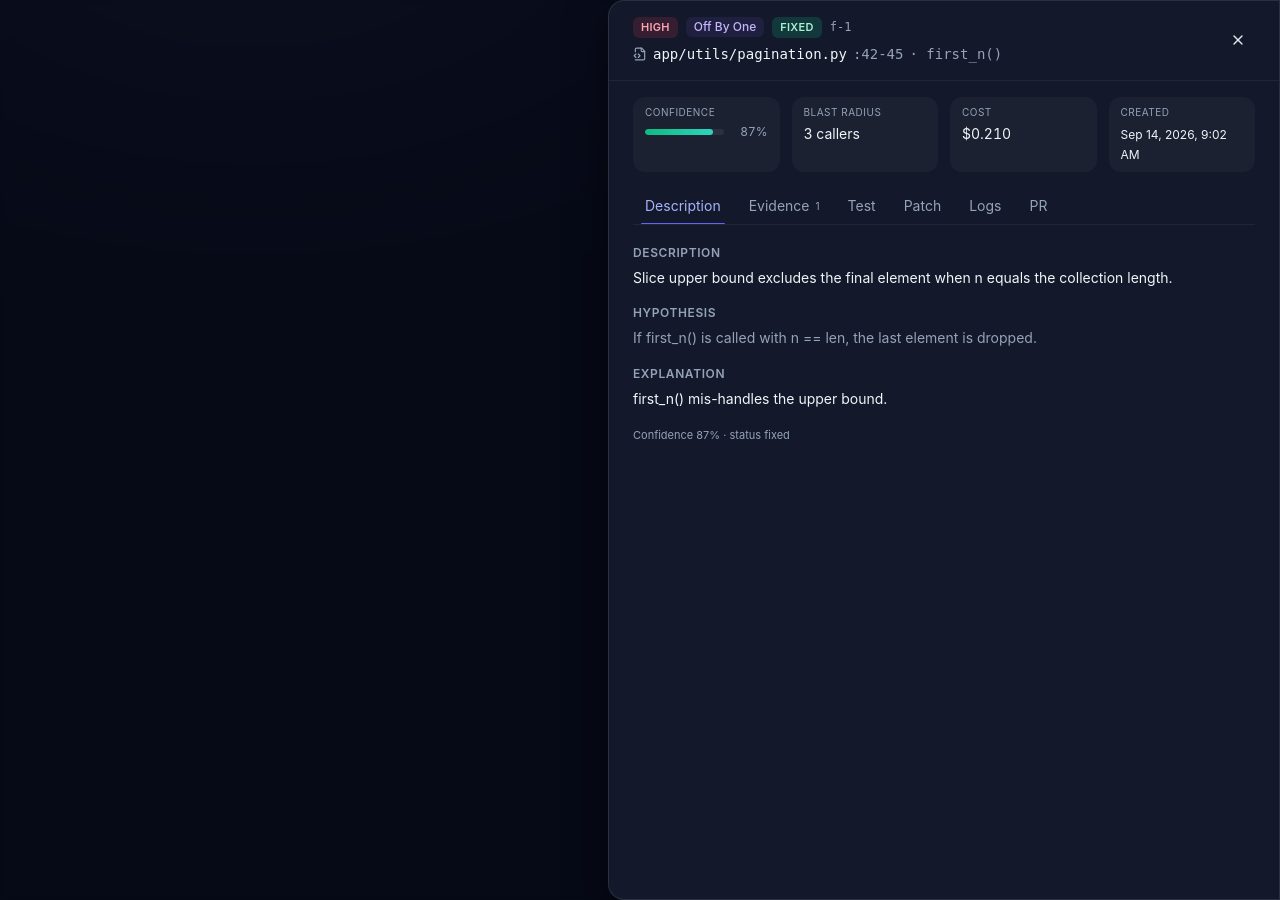
Test: FindingDrawer › switches to the Test tab and renders the generated test
The image size is (1280, 900).
Click the tab "Test".
click(862, 206)  # box [836, 188, 888, 224]
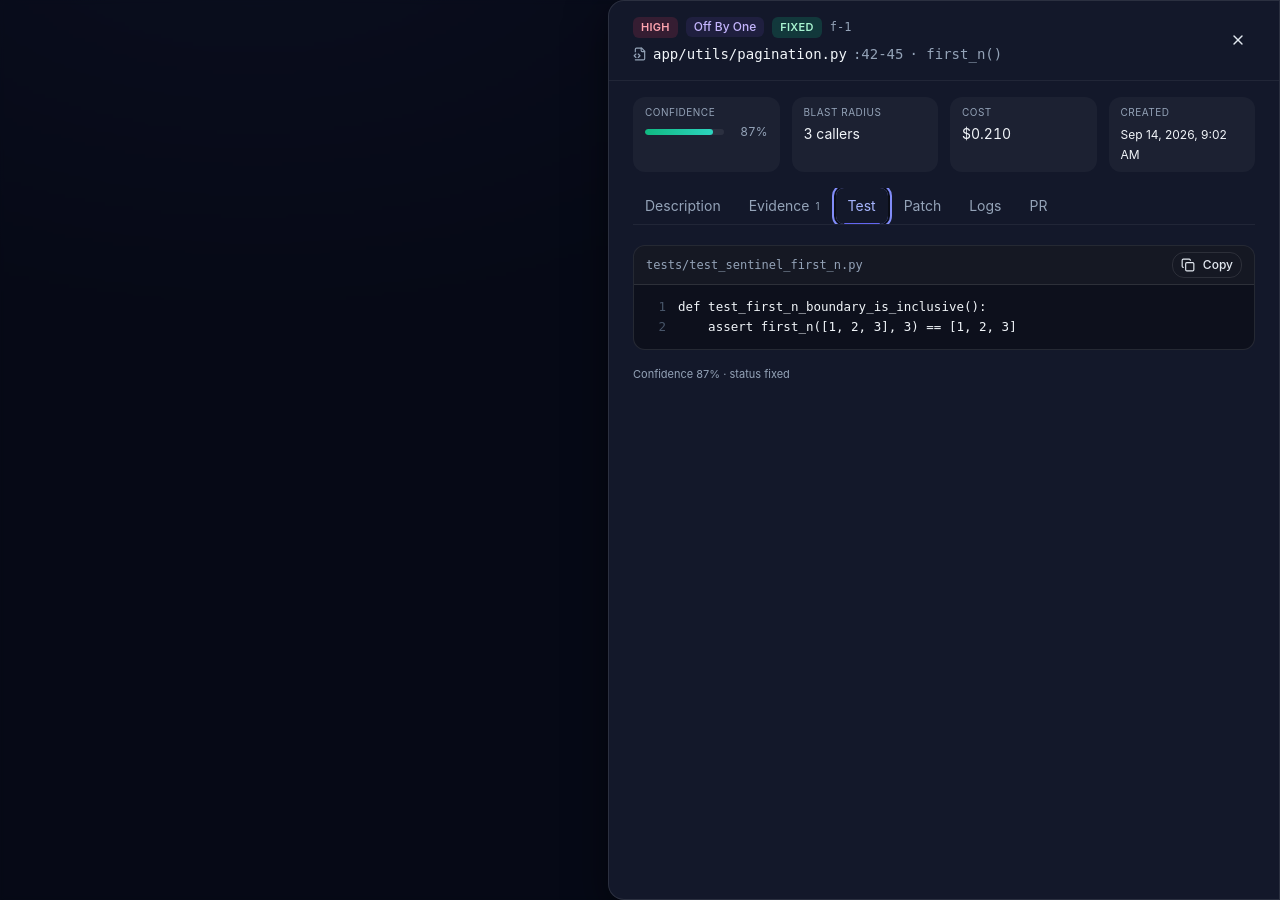
Check: the text "tests/test_sentinel_first_n.py" is shown, box [646, 256, 863, 272]
Check: the text "def test_first_n_boundary_is_inclusive():" is shown, box [678, 296, 987, 317]
